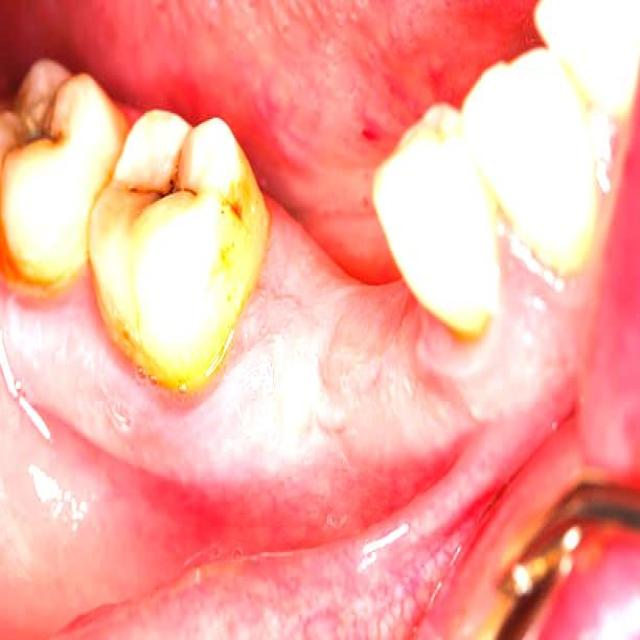caries: (121, 138, 213, 252), (0, 82, 69, 191)
